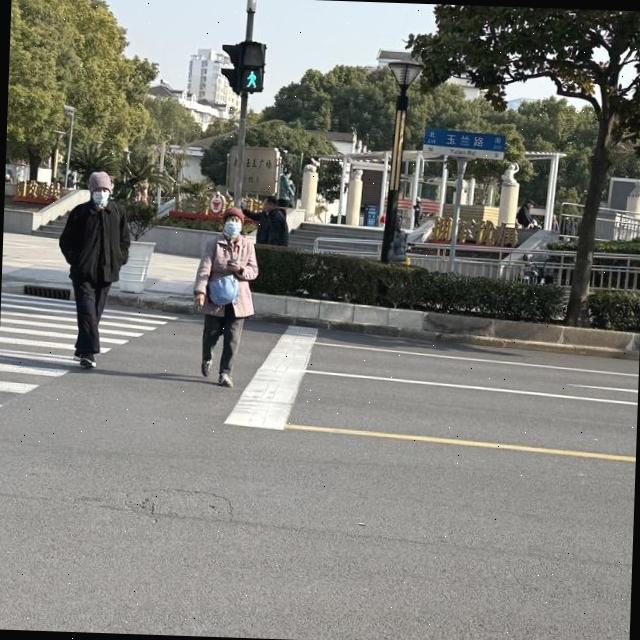curb: (256, 294, 639, 353), (249, 312, 638, 359), (106, 290, 198, 314), (2, 282, 76, 300)
